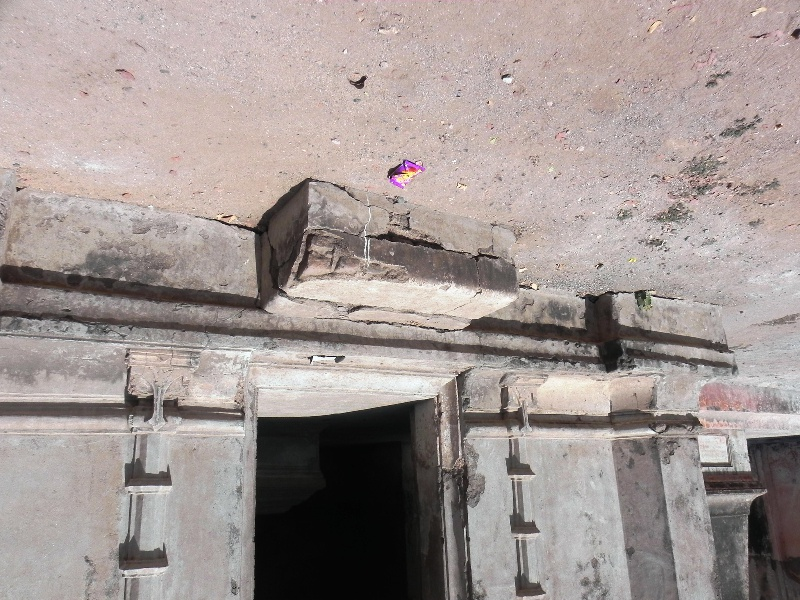Exposed Bricks: (295, 230, 397, 286)
